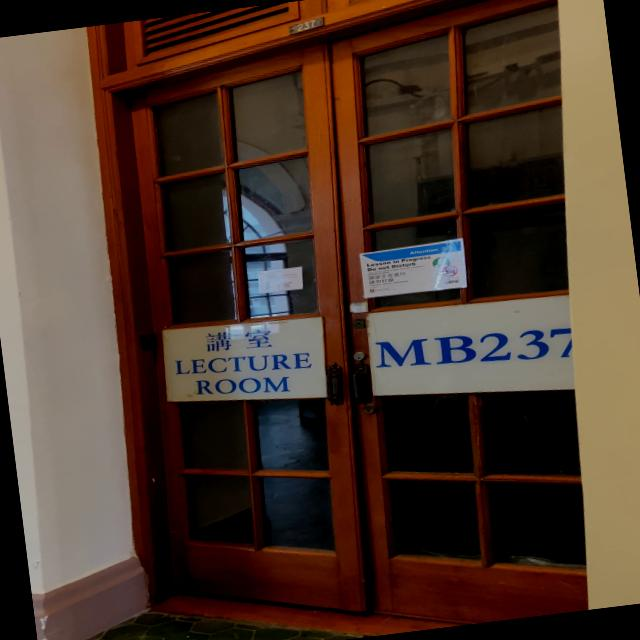room237: (286, 13, 326, 37)
room237Window: (369, 296, 569, 393)
